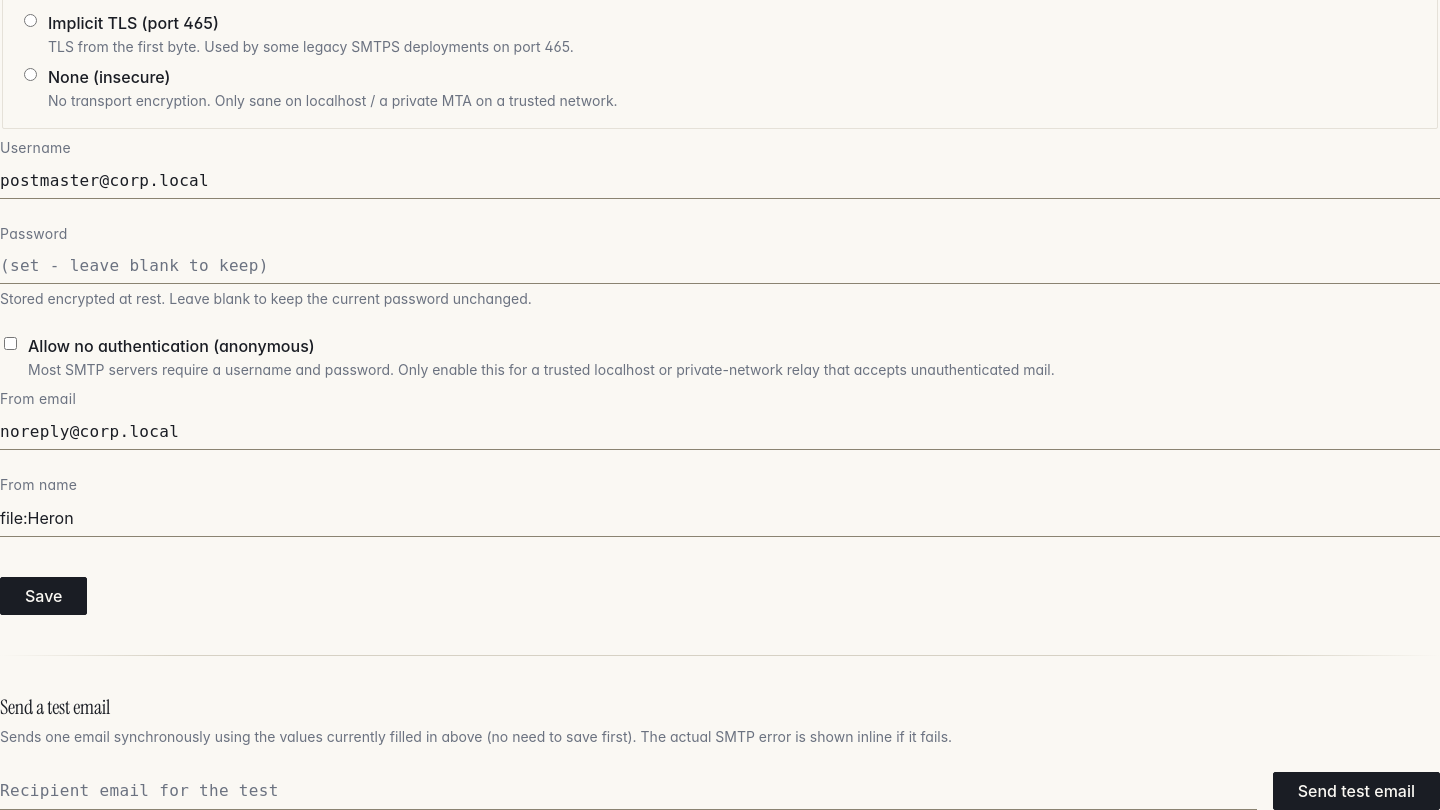
Test: AdminSettingsEmail › a wrong password stays in the dialog
(page scrolled)
In the field with placeholder "Recipient email for the test": (628, 790) [0,772,1257,809], type "ops@example.com"
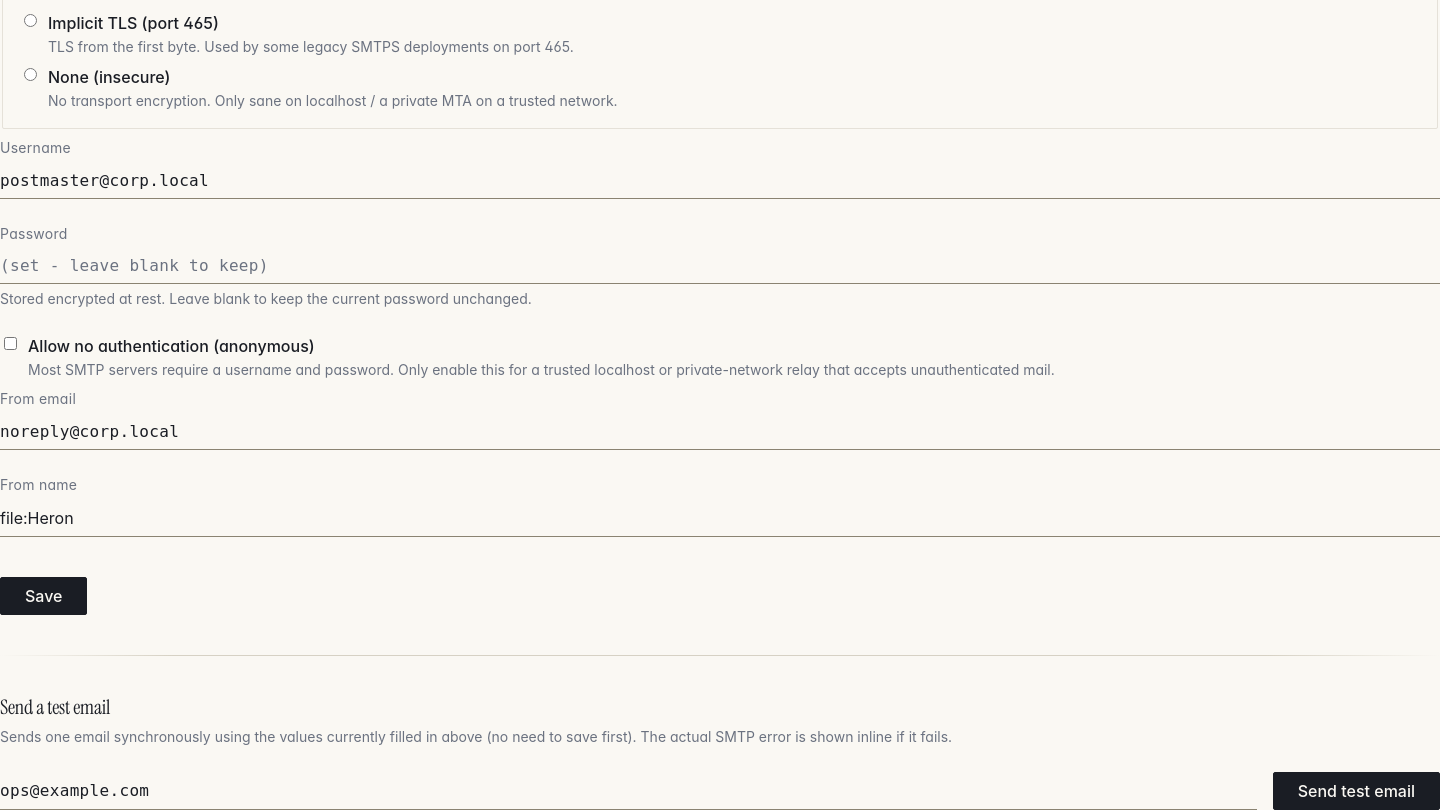
Click the button "Send test email": (1356, 790) [1273,772,1439,809]
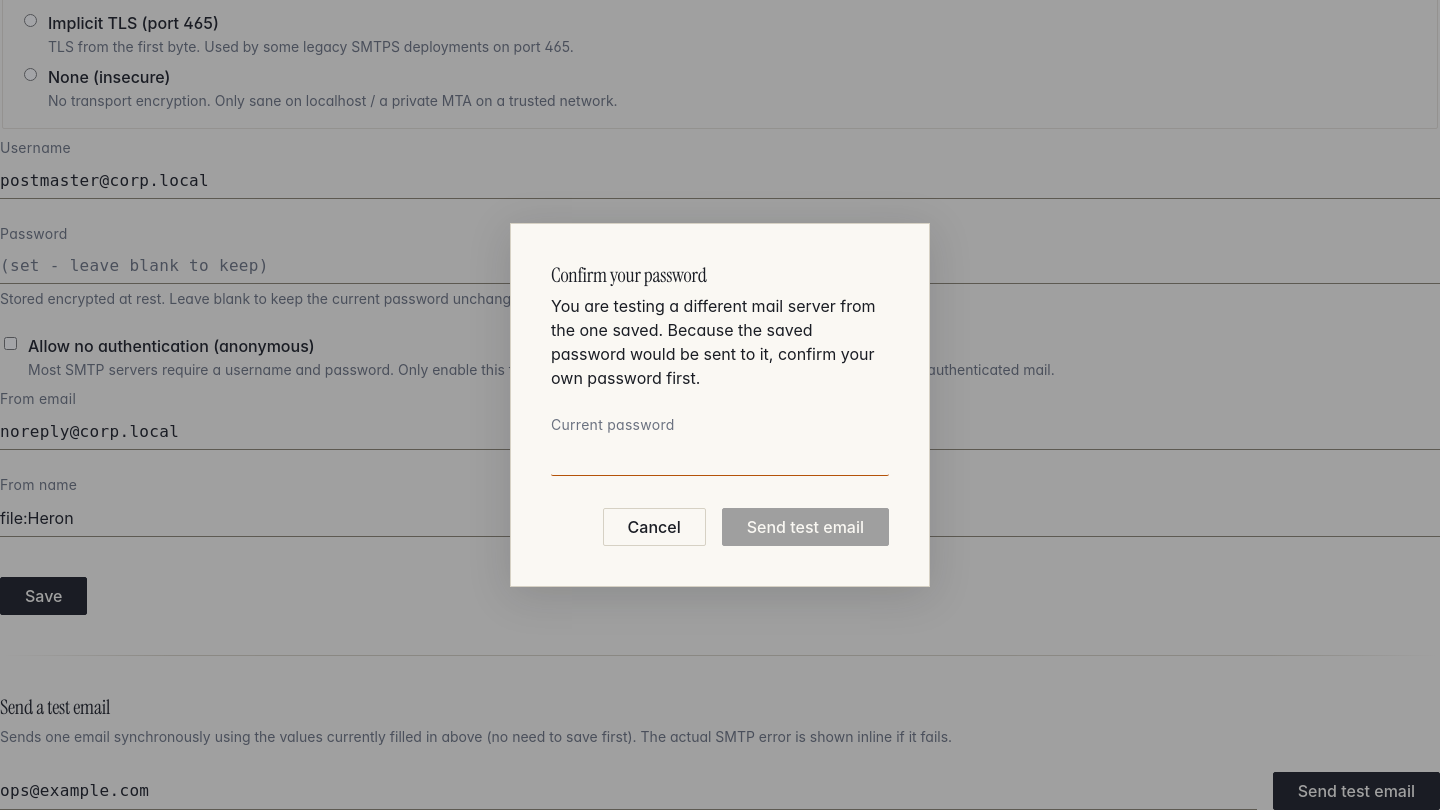
In the password field with test id "step-up-password": (720, 458) [551,439,889,476], type "nope"
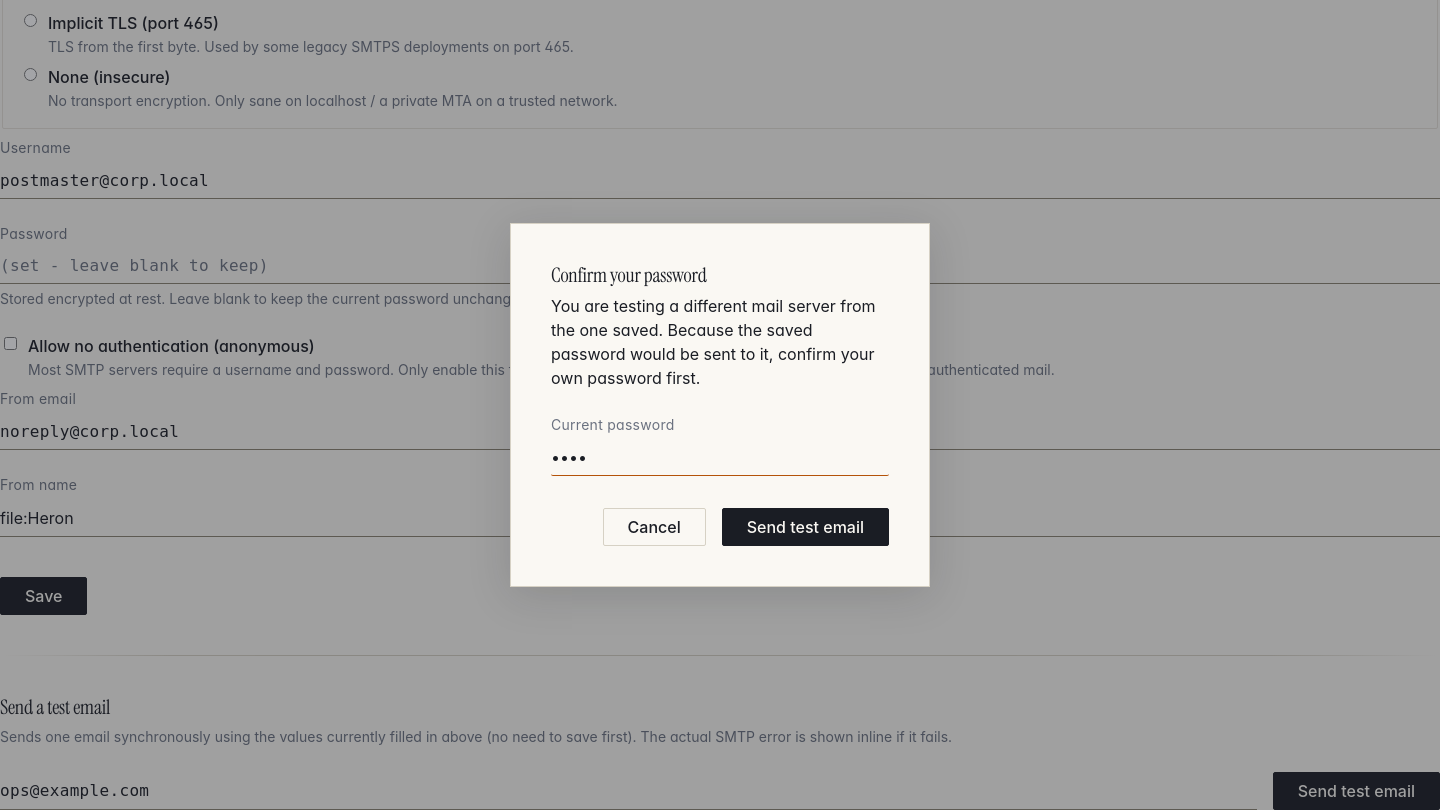
Submit the form "Current password Cancel Send test email", box [551,414,889,546]
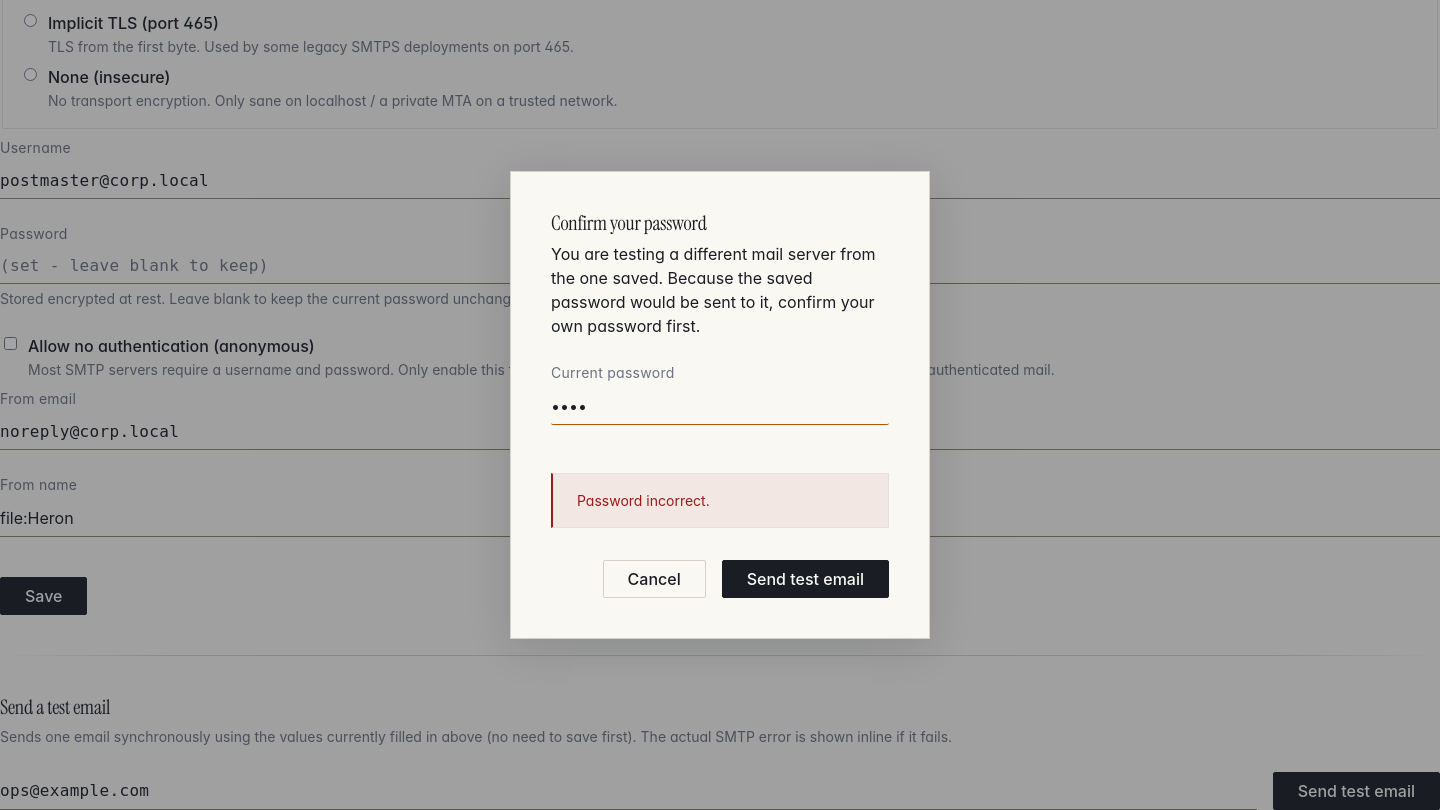
Expected: the dialog with test id "step-up-dialog" is shown
Expected: the message "Password incorrect." is shown, [551,472,889,528]
